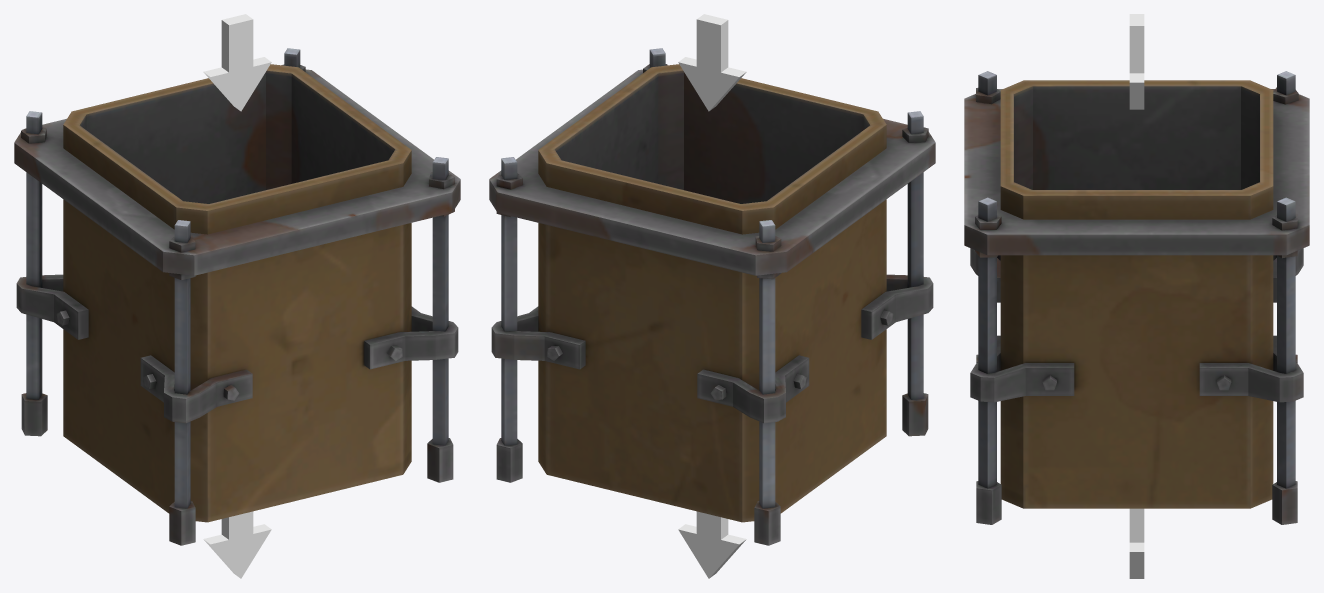
File: Chute.glb
3 renders of one model, left to right at view 1: azimuth 30°, elevation 25°; view 2: azimuth 150°, elevation 25°; view 3: azimuth 270°, elevation 25°, orthographic.
Parts seen in each view (by area): view 1: Chute, ghostarrow, ghostarrow (1); view 2: Chute, ghostarrow, ghostarrow (1); view 3: Chute, ghostarrow, ghostarrow (1).
Boxes of the visible parts, x1,y1,x2,y2 form: Chute: [14, 48, 460, 545]; ghostarrow: [203, 14, 271, 111]; ghostarrow (1): [203, 511, 271, 578]; Chute: [489, 48, 935, 545]; ghostarrow: [678, 14, 746, 111]; ghostarrow (1): [678, 511, 746, 578]; Chute: [964, 71, 1309, 524]; ghostarrow: [1129, 14, 1144, 109]; ghostarrow (1): [1129, 508, 1144, 578].
Size of the model in its own units: 1 by 1.79 by 1.
Materials: 2 (1 with a texture image).
